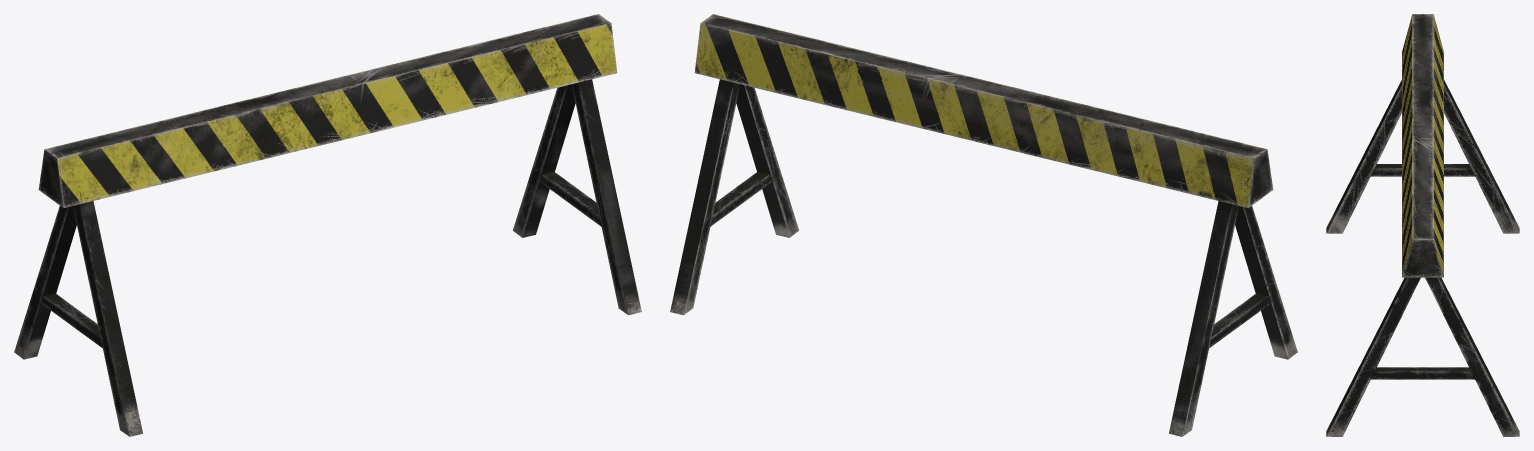
The model's file is safety_fence0.obj.
3 renders of one model, left to right at view 1: azimuth 30°, elevation 25°; view 2: azimuth 150°, elevation 25°; view 3: azimuth 270°, elevation 25°, orthographic. The views are drawn at different scales.
Parts seen in each view (by area): view 1: barrière_low.001_Mesh; view 2: barrière_low.001_Mesh; view 3: barrière_low.001_Mesh.
Part boxes in pixels (x1,y1,x2,y2): barrière_low.001_Mesh: (14, 14, 641, 436); barrière_low.001_Mesh: (670, 14, 1297, 436); barrière_low.001_Mesh: (1326, 14, 1519, 436).
Bounding box in the file's own units: 2.6 × 1.1 × 0.9414.
1 material, 1 textured.
